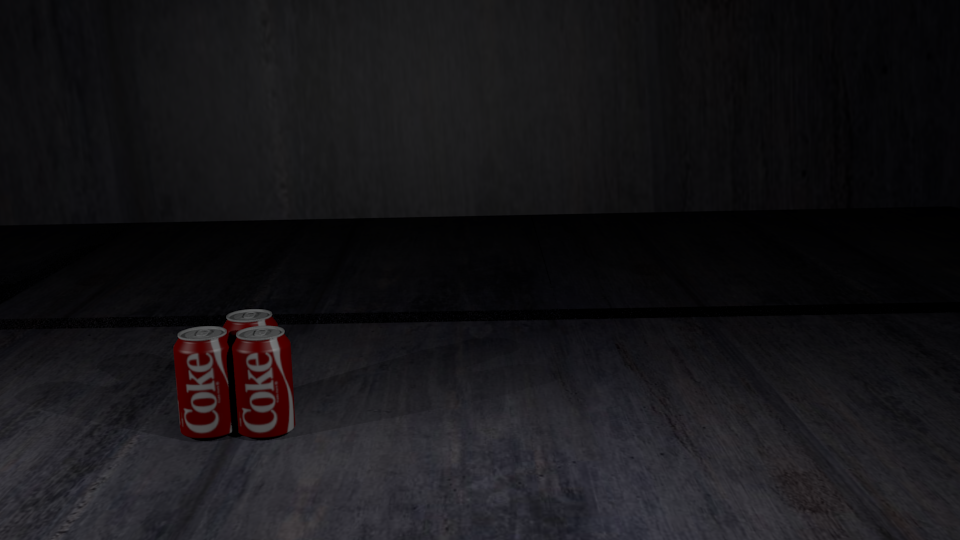cola_can: (173, 326, 234, 435), (232, 326, 292, 434), (223, 309, 276, 412)
